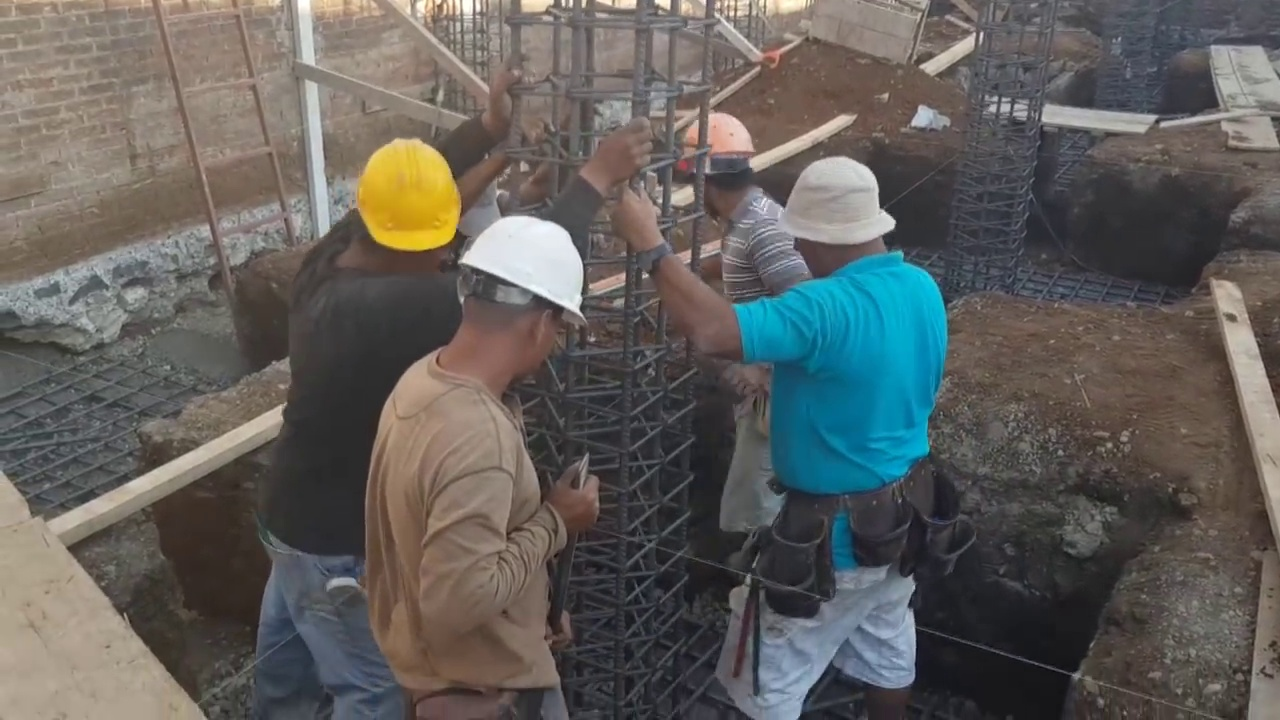helmet: (463, 212, 585, 329), (356, 136, 461, 251), (681, 104, 766, 179)
helmet-off: (787, 153, 899, 282)
helmet-on: (436, 208, 590, 394), (331, 140, 462, 277), (683, 105, 769, 215)
person: (244, 48, 529, 714), (635, 130, 940, 689), (357, 213, 596, 715), (671, 102, 802, 584)
